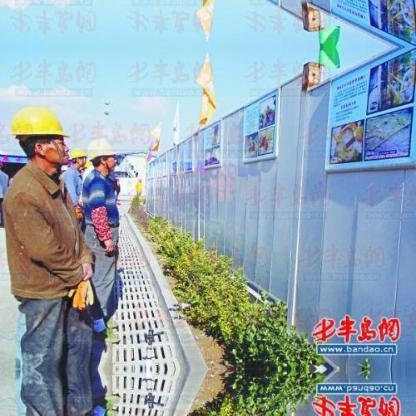helmet: (10, 106, 69, 141), (85, 138, 121, 167), (70, 149, 86, 160)
